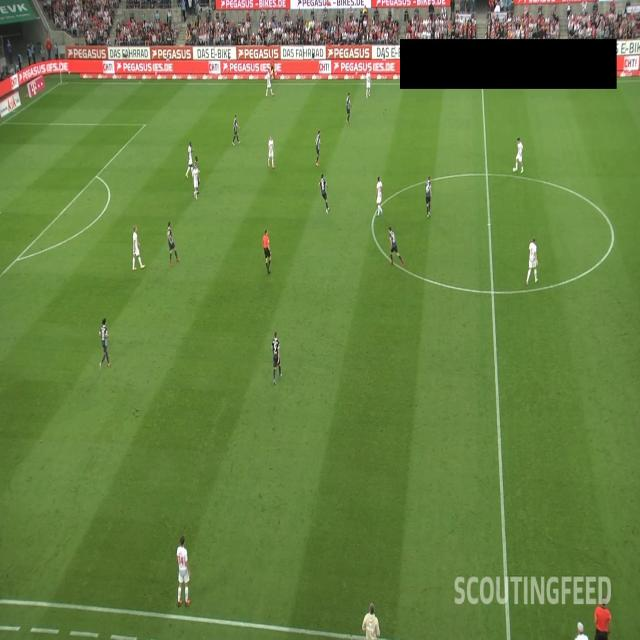ball: (512, 166, 517, 173)
